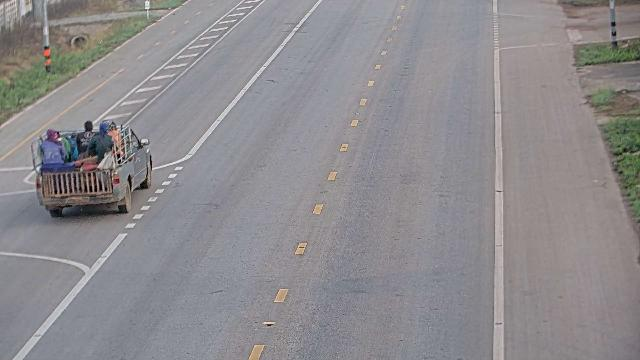pickup-truck: (30, 120, 153, 217)
